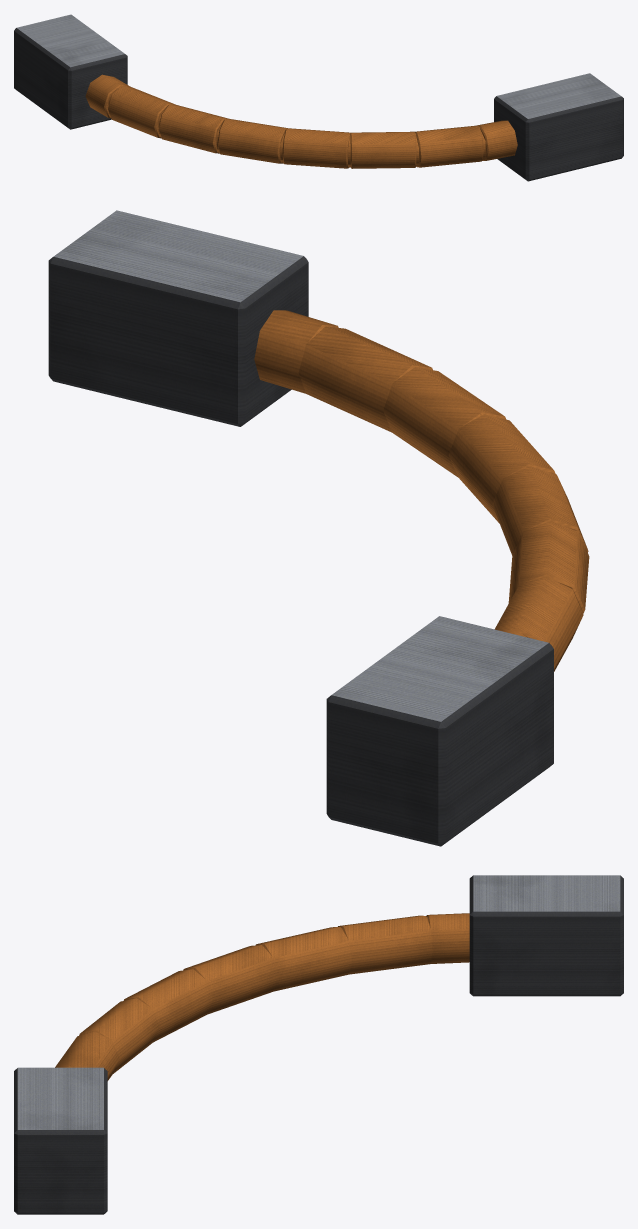
Rendered from R4C_ROD_ARC_LONG_LOD1.glb.
The picture shows the model from 3 angles, top to bottom: view 1: azimuth 30°, elevation 25°; view 2: azimuth 150°, elevation 25°; view 3: azimuth 270°, elevation 25°; orthographic projection. The views are drawn at different scales.
Visible parts, largest first — view 1: R4C_ROD_ARC_LONG_LOD1; view 2: R4C_ROD_ARC_LONG_LOD1; view 3: R4C_ROD_ARC_LONG_LOD1.
Part boxes in pixels (x1,y1,x2,y2): R4C_ROD_ARC_LONG_LOD1: (14,14,623,181); R4C_ROD_ARC_LONG_LOD1: (48,210,589,846); R4C_ROD_ARC_LONG_LOD1: (14,875,623,1214).
Bounding box in the file's own units: 1.47 × 0.226 × 1.47.
Materials: 3 (3 with a texture image).
